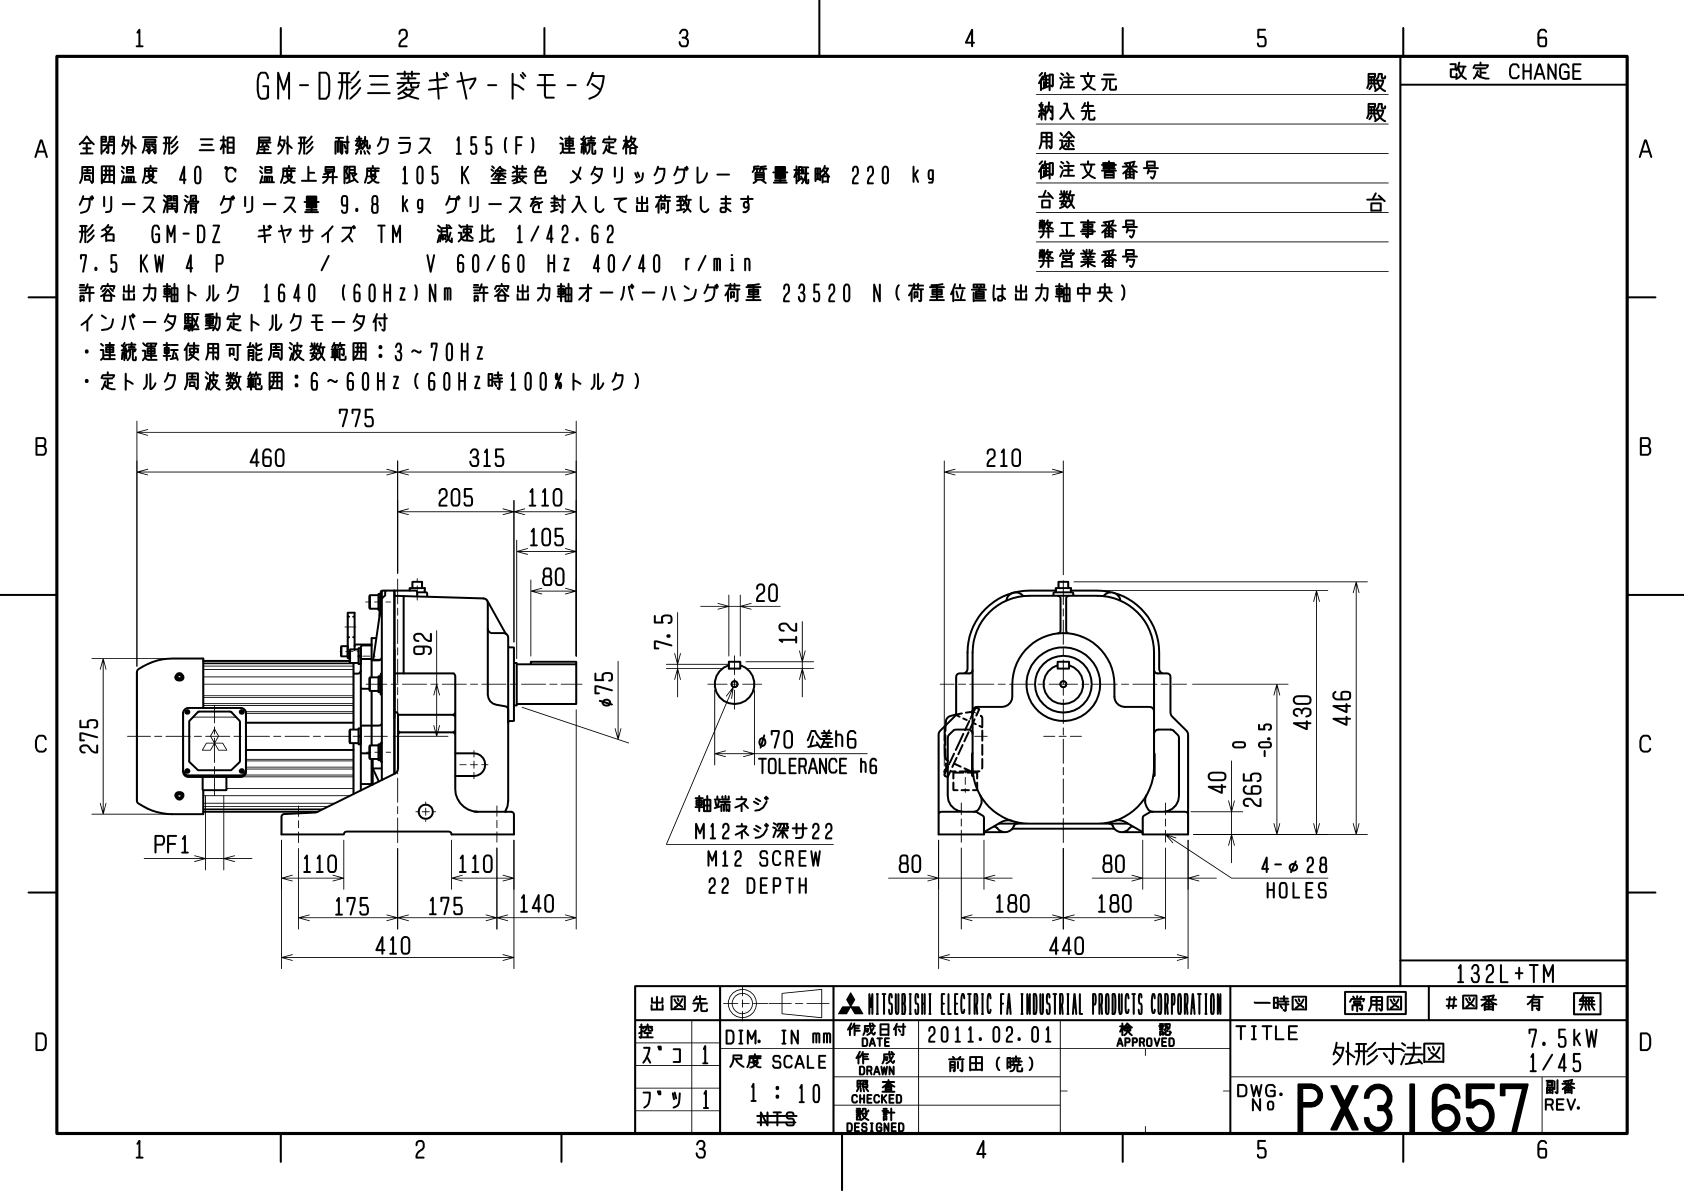GM_D_インバータ屋外_三相_脚: (63, 394, 1392, 973)
